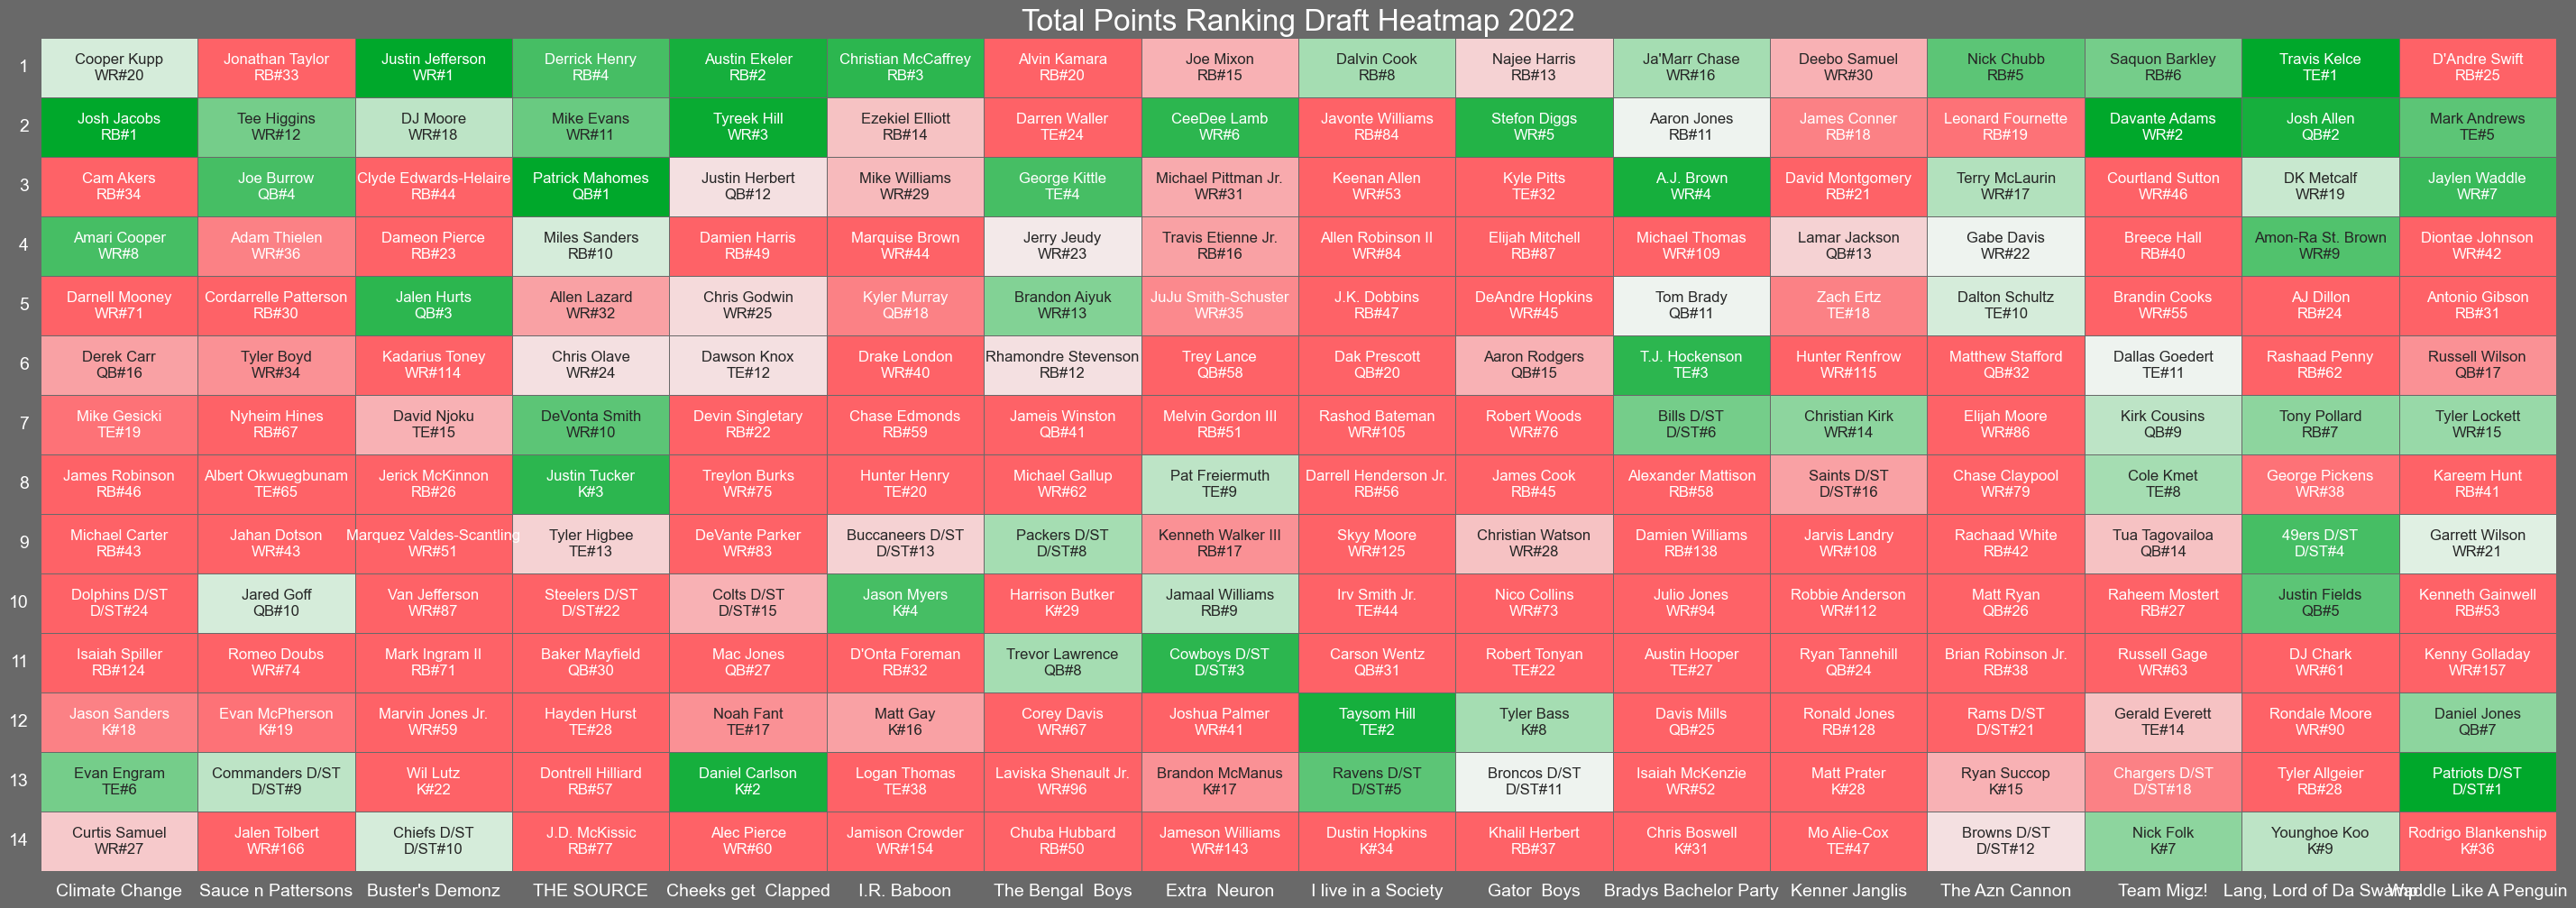

This screenshot's page, from the dashboard's own definition file:
{"tool":"powerbi","page":{"name":"Page 3","canvas":[1280,720],"ordinal":2},"visuals":[{"type":"pivotTable","fields":{"Rows":["Query1.round","Query1.playername"],"Columns":["Query1.pick"],"Values":["Sum(Query1.total)"]},"box":[0,0,1280,720],"z":1}]}

Visuals, with their boxes on the page's 1280x720 design canvas (x1, y1, x2, y2). These are canvas units, not pixel positions in the 2576x908 screenshot, which may show the page scaled, cropped or inside an application window:
pivotTable - Query1.round x Query1.playername: left=0, top=0, right=1280, bottom=720
